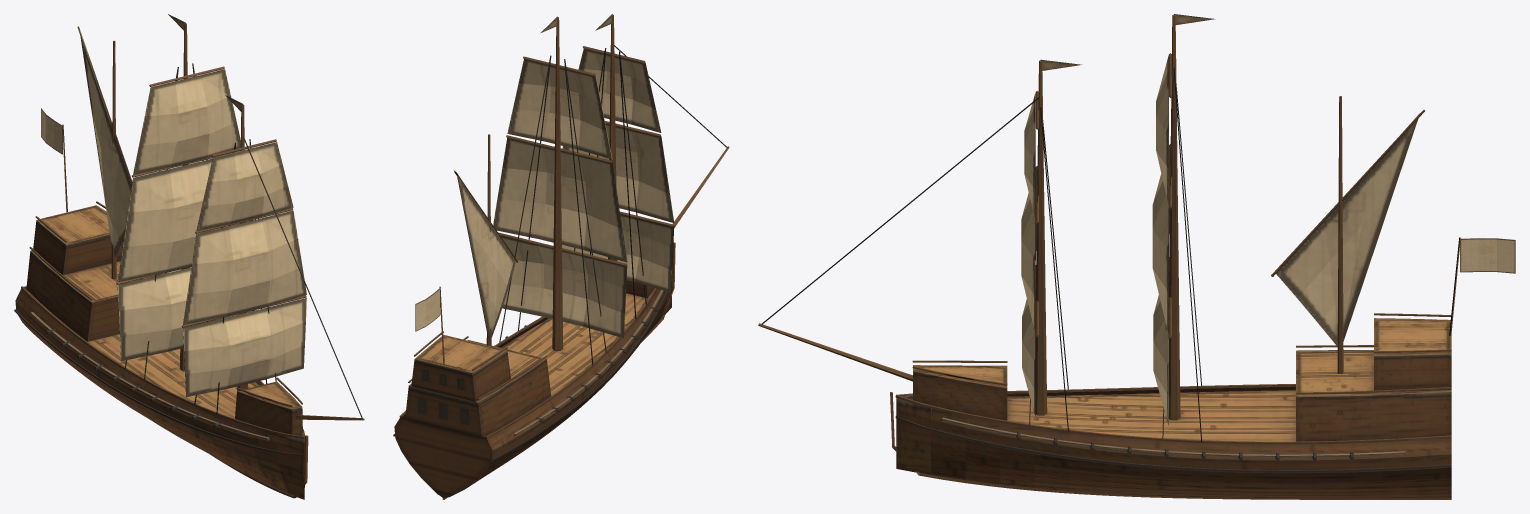
File: Galleon.fbx
The picture shows the model from 3 angles, left to right: view 1: azimuth 30°, elevation 25°; view 2: azimuth 150°, elevation 25°; view 3: azimuth 270°, elevation 25°; orthographic projection. The views are drawn at different scales.
Visible parts, largest first — view 1: Hull, Sail0_2, Sail0_1, Sail1_2, Sail1_3, Sail0_3, Sail1_1, SternCastle0, Sail_Lateen, Deck, SternCastle1, Forecastle0 (+11 smaller); view 2: Sail1_2, Hull, Sail1_1, Sail1_3, SternCastle0, Sail0_2, Deck, Sail_Lateen, Sail0_3, Sail0_1, SternCastle1, Mast1 (+15 smaller); view 3: Hull, Deck, Sail_Lateen, SternCastle0, SternCastle0_Deck, Mast1, Forecastle0, Mast0, SternCastle1, SternCastle1_Deck, GunStripe_P, Rail_P (+11 smaller).
Part boxes in pixels (x1=…): Hull: x1=15, y1=286, x2=304, y2=499; Sail0_2: x1=183, y1=210, x2=306, y2=324; Sail0_1: x1=183, y1=298, x2=306, y2=397; Sail1_2: x1=117, y1=158, x2=253, y2=282; Sail1_3: x1=133, y1=69, x2=240, y2=174; Sail0_3: x1=196, y1=142, x2=293, y2=230; Sail1_1: x1=117, y1=267, x2=254, y2=361; SternCastle0: x1=26, y1=250, x2=119, y2=341; Sail_Lateen: x1=79, y1=30, x2=131, y2=256; Deck: x1=27, y1=290, x2=258, y2=418; SternCastle1: x1=33, y1=205, x2=123, y2=274; Forecastle0: x1=235, y1=382, x2=302, y2=435; Sail1_2: x1=493, y1=138, x2=627, y2=262; Hull: x1=394, y1=278, x2=672, y2=497; Sail1_1: x1=500, y1=235, x2=627, y2=338; Sail1_3: x1=507, y1=59, x2=612, y2=159; SternCastle0: x1=405, y1=340, x2=551, y2=437; Sail0_2: x1=562, y1=123, x2=674, y2=222; Deck: x1=501, y1=288, x2=654, y2=395; Sail_Lateen: x1=456, y1=172, x2=515, y2=337; Sail0_3: x1=578, y1=48, x2=661, y2=132; Sail0_1: x1=562, y1=214, x2=674, y2=292; SternCastle1: x1=411, y1=335, x2=510, y2=401; Mast1: x1=552, y1=17, x2=563, y2=350; Hull: x1=896, y1=386, x2=1451, y2=498; Deck: x1=911, y1=390, x2=1295, y2=441; Sail_Lateen: x1=1276, y1=113, x2=1419, y2=346; SternCastle0: x1=1296, y1=350, x2=1451, y2=441; SternCastle0_Deck: x1=1296, y1=350, x2=1451, y2=396; Mast1: x1=1169, y1=14, x2=1180, y2=420; Forecastle0: x1=913, y1=370, x2=1007, y2=420; Mast0: x1=1035, y1=60, x2=1047, y2=415; SternCastle1: x1=1374, y1=318, x2=1451, y2=391; SternCastle1_Deck: x1=1374, y1=318, x2=1451, y2=355; GunStripe_P: x1=942, y1=417, x2=1405, y2=458; Rail_P: x1=895, y1=395, x2=1451, y2=444.
Size of the model in its own units: 13.61 by 38.57 by 54.54.
1 material, 1 textured.
